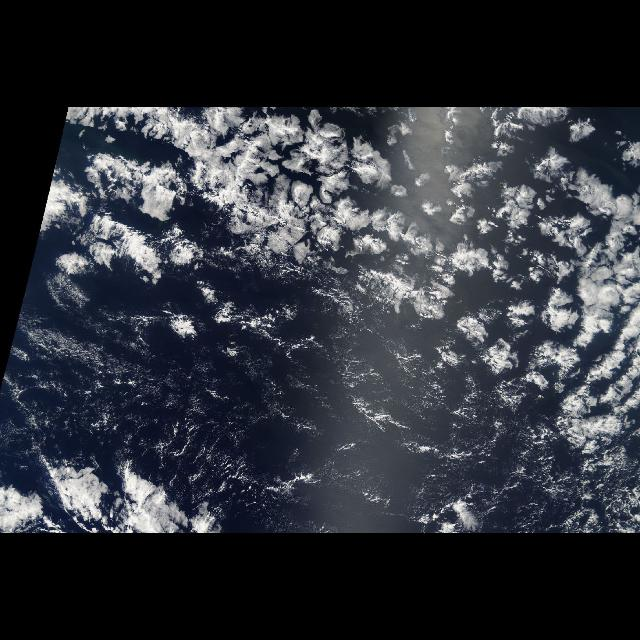Flower: (49, 109, 631, 448)
Gravel: (321, 346, 513, 472)
Sugar: (31, 329, 166, 435)
